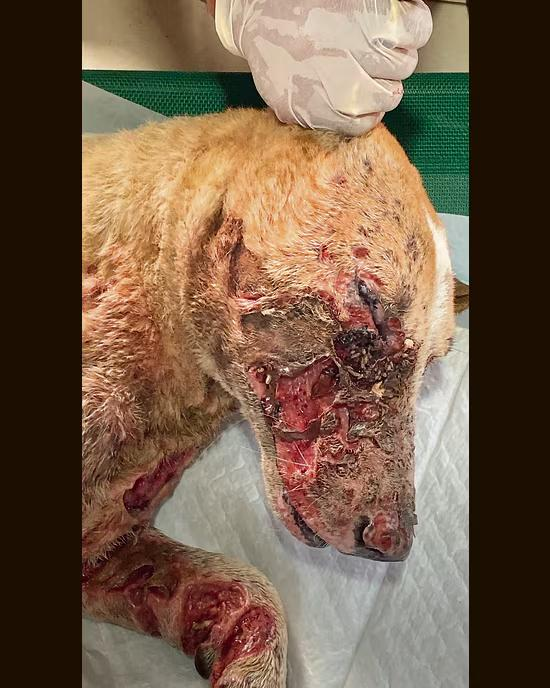infection: (232, 195, 438, 555)
